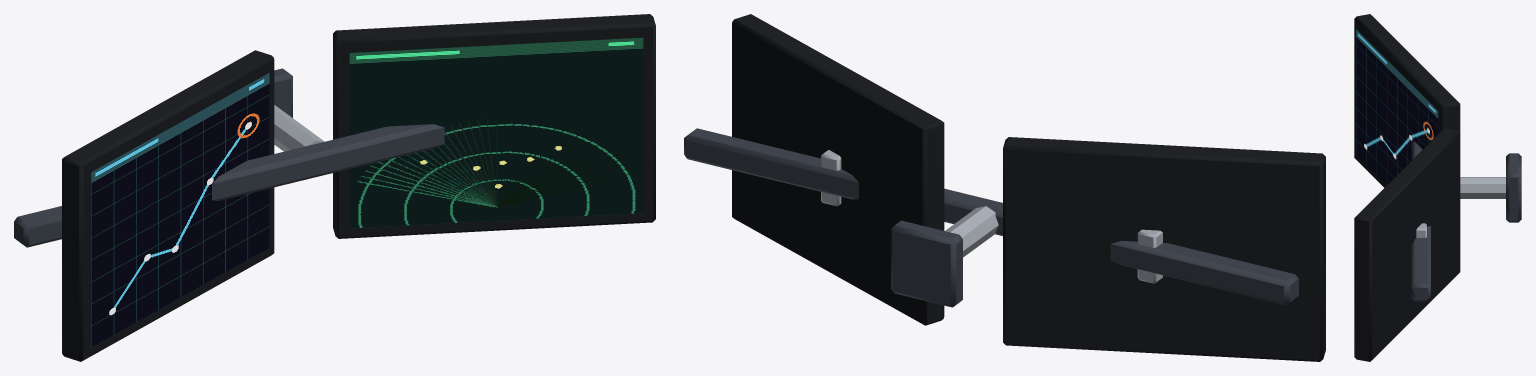
File: display_dual_screen_mount.glb
3 views of the same model, side by side, from view 1: azimuth 30°, elevation 25°; view 2: azimuth 150°, elevation 25°; view 3: azimuth 270°, elevation 25° (orthographic). The views are drawn at different scales.
Parts seen in each view (by area): view 1: display_dual_screen_mount; view 2: display_dual_screen_mount; view 3: display_dual_screen_mount.
Boxes of the visible parts, x1,y1,x2,y2 form: display_dual_screen_mount: (14, 14, 655, 361); display_dual_screen_mount: (684, 14, 1325, 361); display_dual_screen_mount: (1354, 14, 1521, 361).
Size of the model in its own units: 1.3 by 0.41 by 0.4336.
5 materials, 2 textured.
